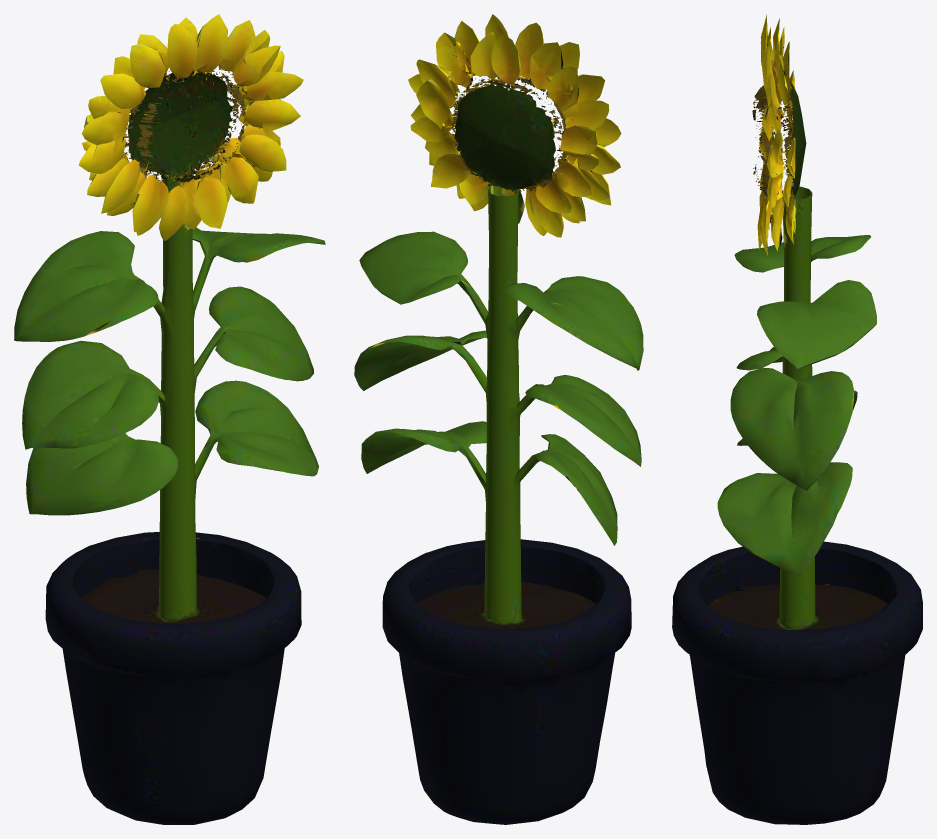
Rendered from girasol.glb.
The picture shows the model from 3 angles, left to right: view 1: azimuth 30°, elevation 25°; view 2: azimuth 150°, elevation 25°; view 3: azimuth 270°, elevation 25°; orthographic projection. The views are drawn at different scales.
Visible parts, largest first — view 1: objeto; view 2: objeto; view 3: objeto.
Boxes of the visible parts, box(x1,y1,x2,y2) form: objeto: box(14, 14, 325, 824); objeto: box(354, 14, 643, 824); objeto: box(672, 14, 922, 824).
Size of the model in its own units: 0.5394 by 1.35 by 0.4003.
Materials: 1 (1 with a texture image).
